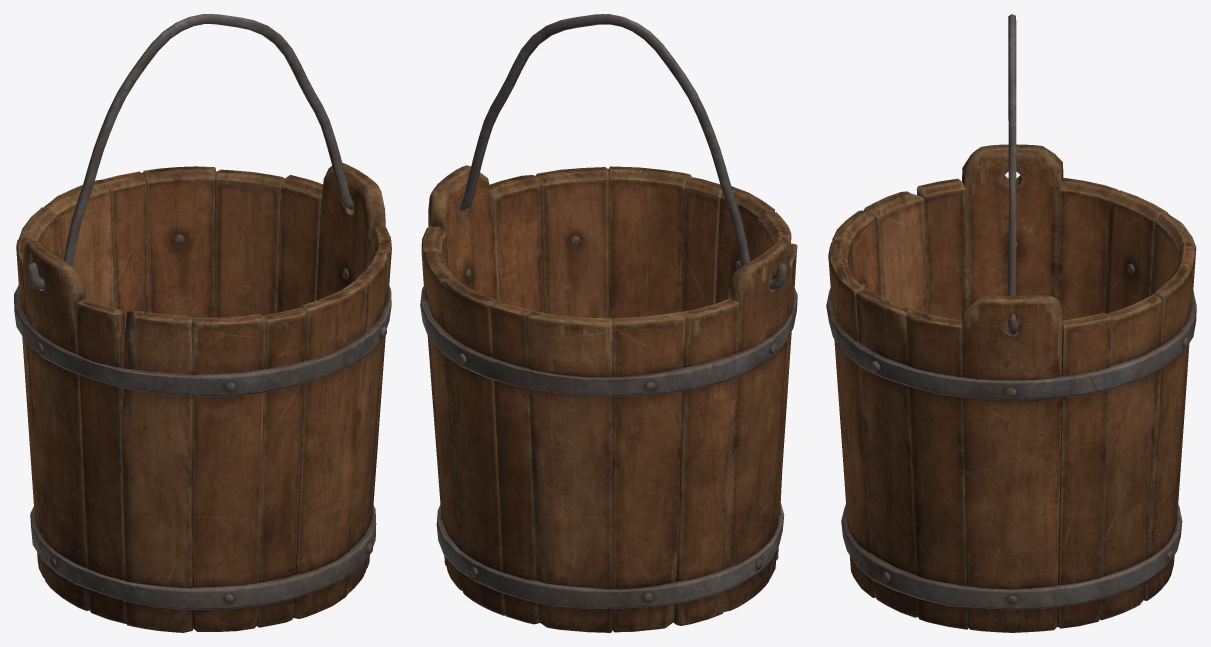
File: wooden_bucket_01.glb
3 views of the same model, side by side, from view 1: azimuth 30°, elevation 25°; view 2: azimuth 150°, elevation 25°; view 3: azimuth 270°, elevation 25° (orthographic).
Parts seen in each view (by area): view 1: wooden_bucket_01; view 2: wooden_bucket_01; view 3: wooden_bucket_01.
Part boxes in pixels (x1=…): wooden_bucket_01: x1=14, y1=14, x2=391, y2=632; wooden_bucket_01: x1=420, y1=14, x2=797, y2=632; wooden_bucket_01: x1=826, y1=14, x2=1196, y2=632.
Bounding box in the file's own units: 0.367 × 0.5499 × 0.3422.
1 material, 1 textured.
